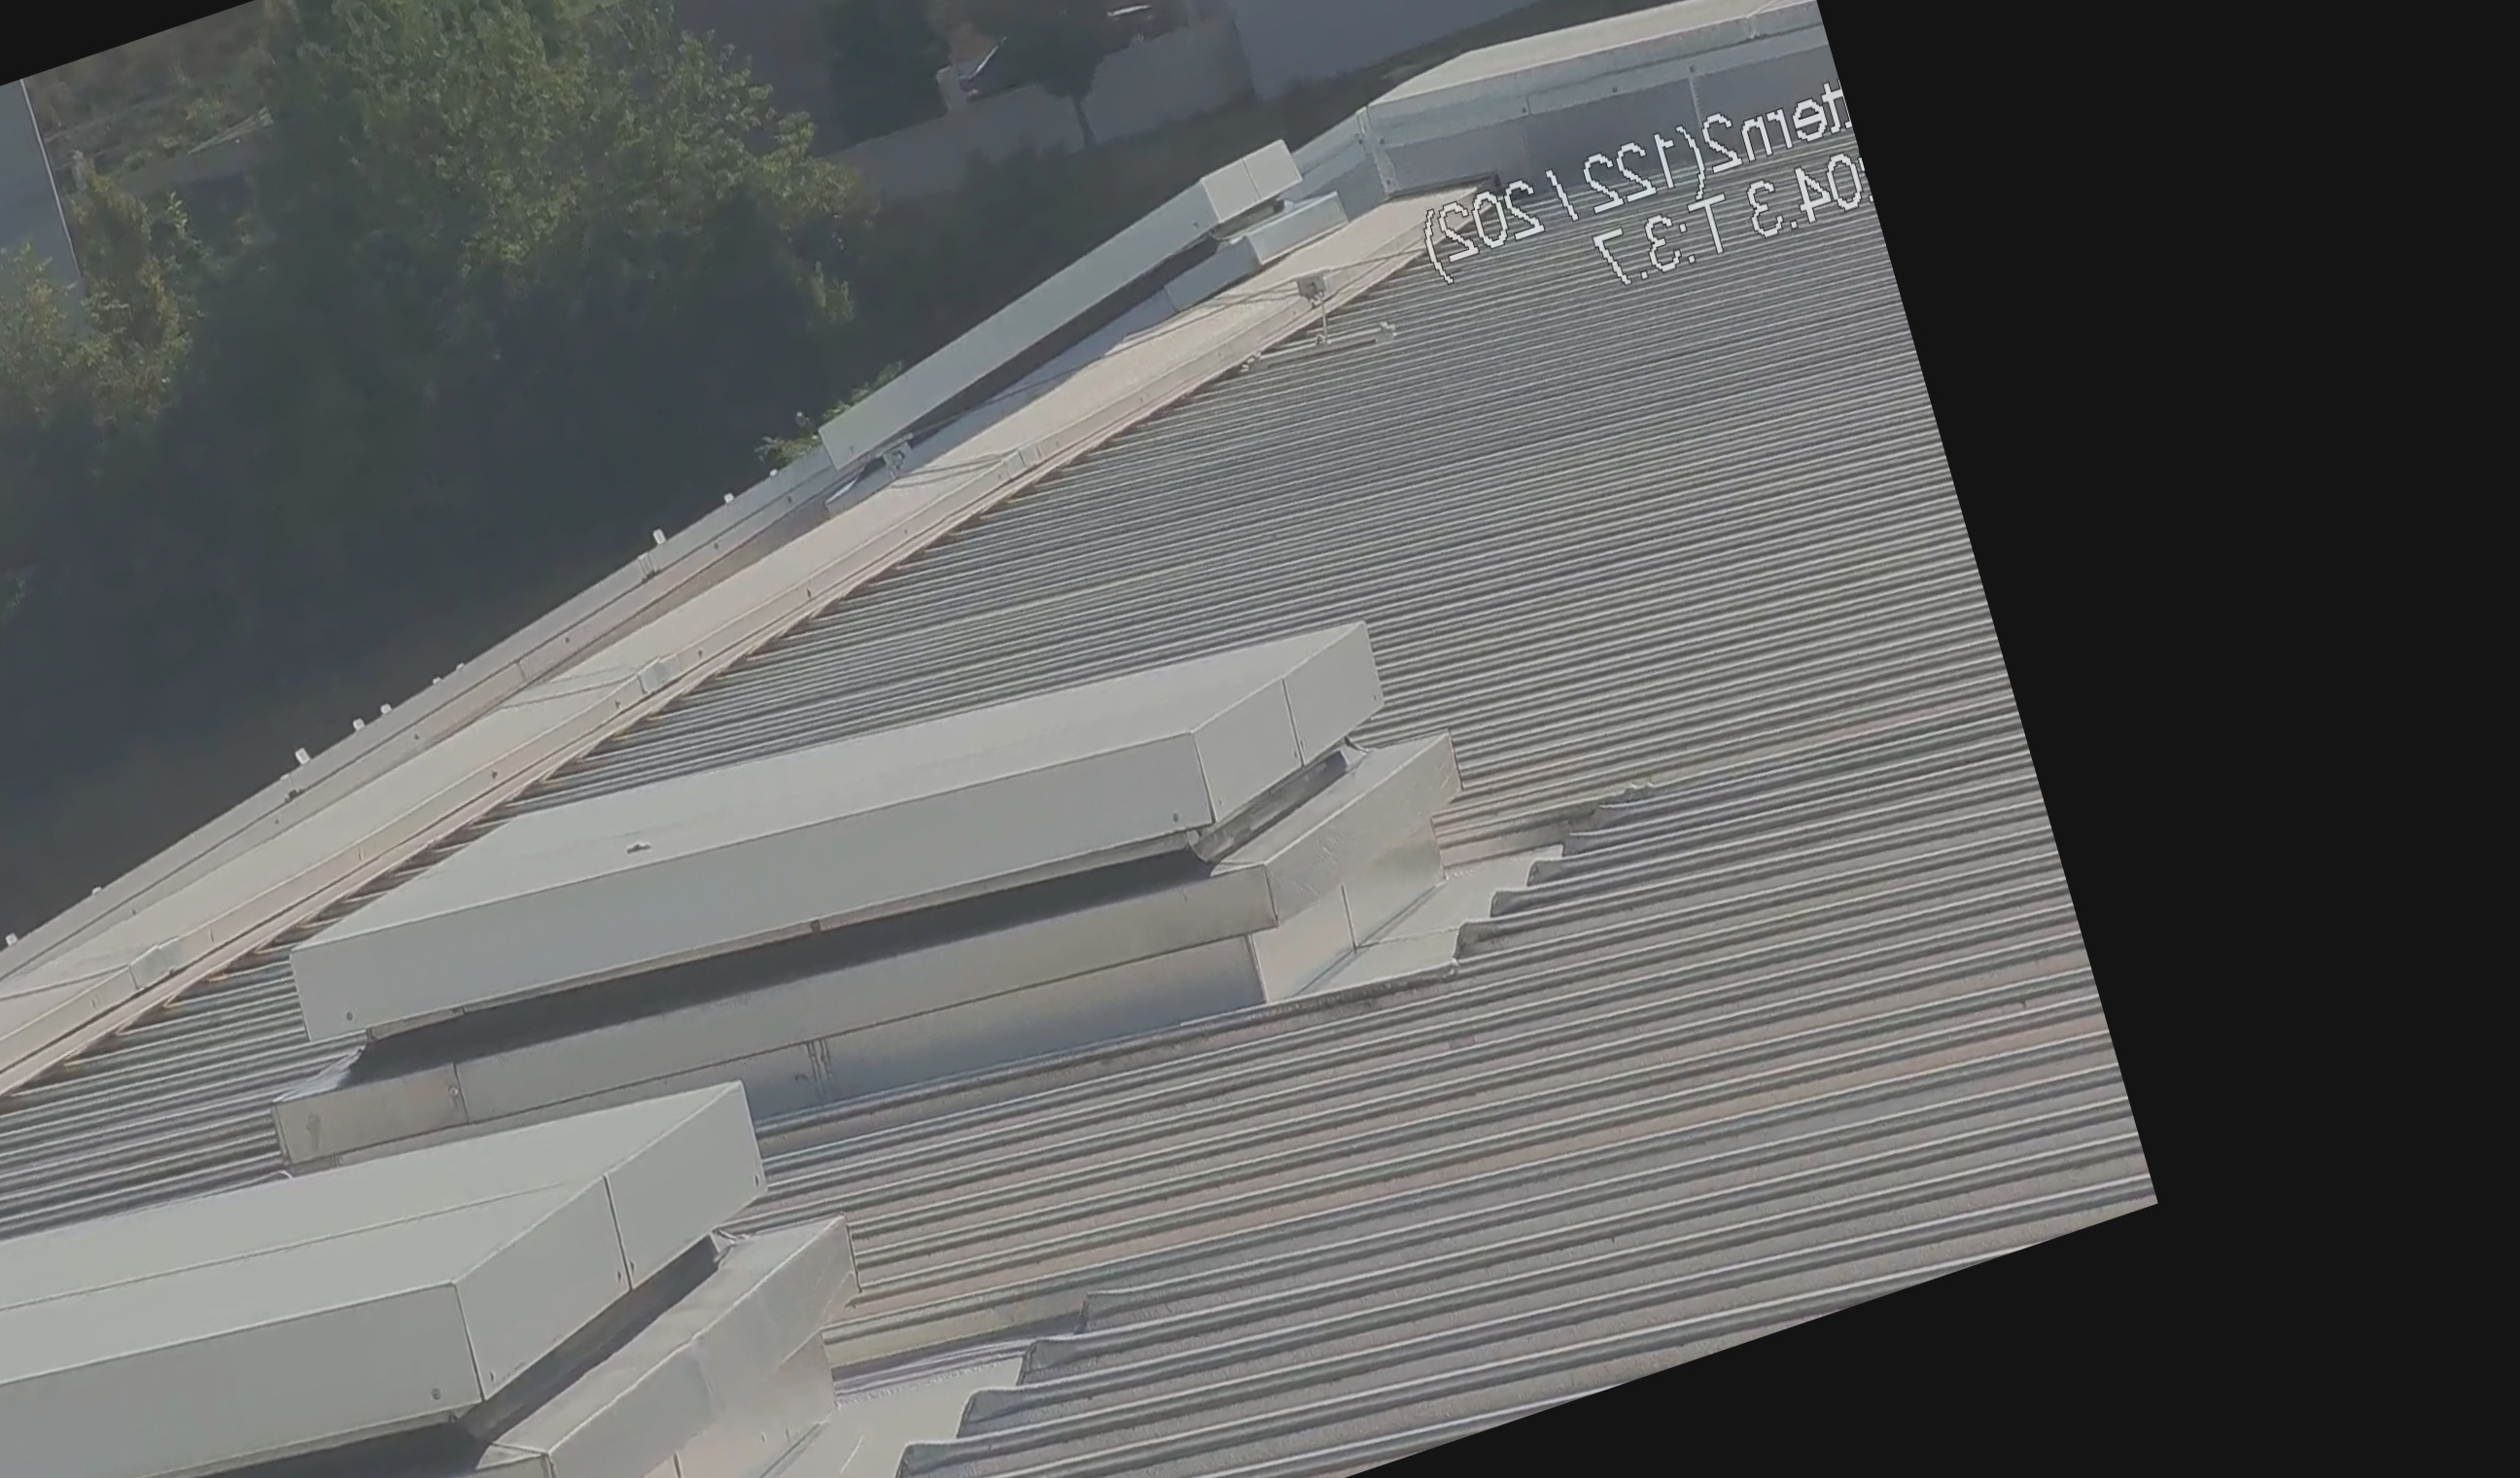Other: (927, 0, 1169, 162)
